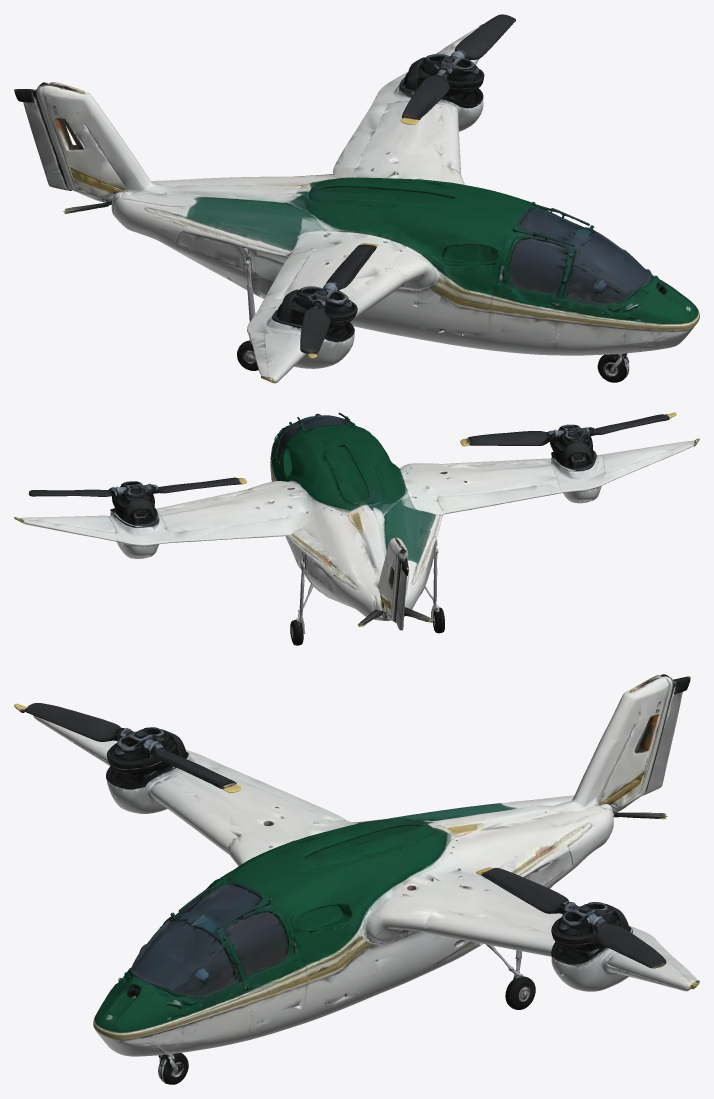
File: vtol.glb
3 views of the same model, one above another, from view 1: azimuth 30°, elevation 25°; view 2: azimuth 150°, elevation 25°; view 3: azimuth 270°, elevation 25° (orthographic). The views are drawn at different scales.
Visible parts, largest first — view 1: tripo_node_947f0561-ed64-4cb0-8d1d-7f9e1d90f305; view 2: tripo_node_947f0561-ed64-4cb0-8d1d-7f9e1d90f305; view 3: tripo_node_947f0561-ed64-4cb0-8d1d-7f9e1d90f305.
Part boxes in pixels (x1,y1,x2,y2): tripo_node_947f0561-ed64-4cb0-8d1d-7f9e1d90f305: (14,14,699,383); tripo_node_947f0561-ed64-4cb0-8d1d-7f9e1d90f305: (14,412,699,645); tripo_node_947f0561-ed64-4cb0-8d1d-7f9e1d90f305: (14,674,699,1084).
Size of the model in its own units: 0.9552 by 0.3669 by 0.9812.
Materials: 1 (1 with a texture image).
